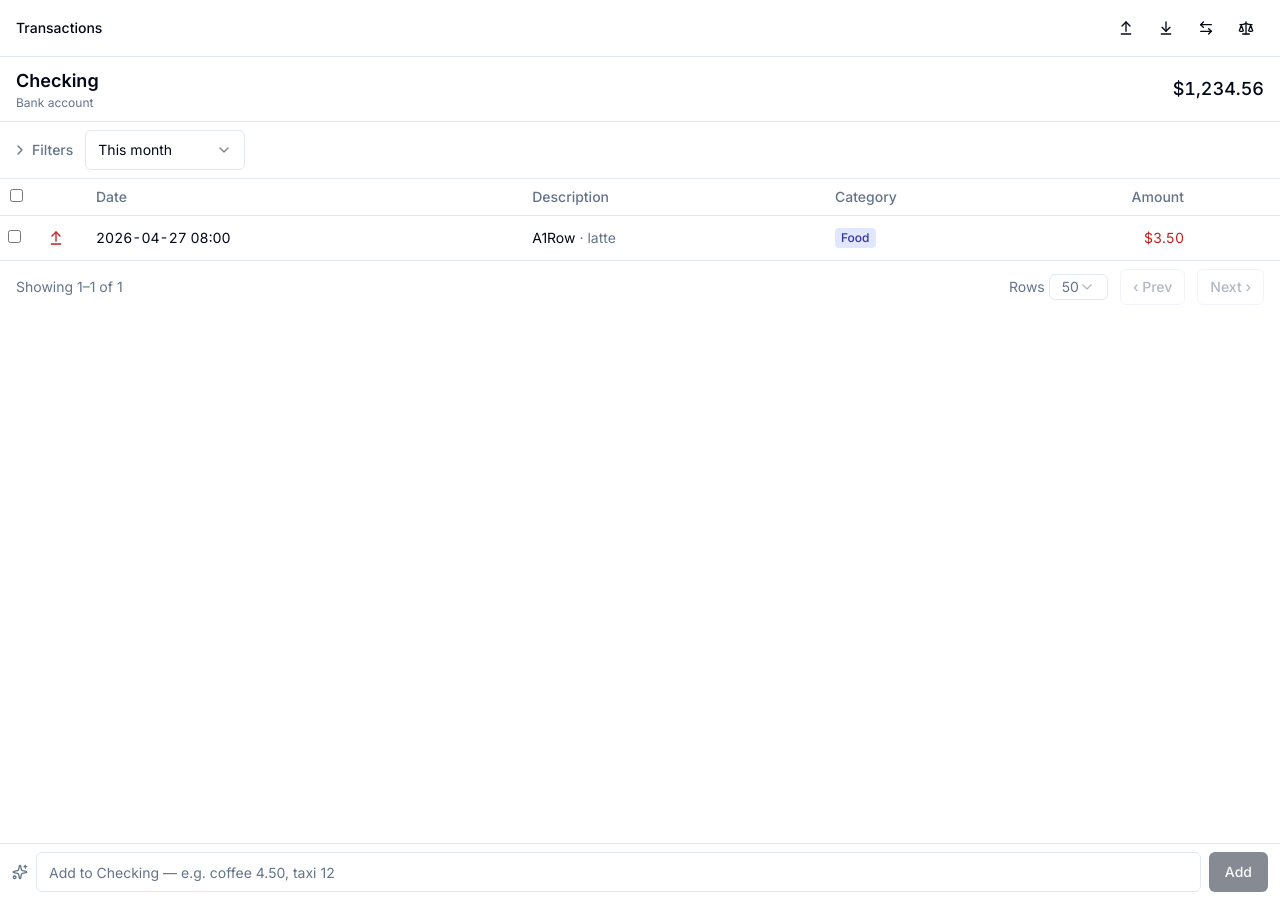
Test: TransactionsPane balance/list consistency › behaves sanely across an in-place account switch: shows the newly selected account’s own (live) balance immediately, never the previous account’s held balance
This screenshot has width=1280, height=900.
Check: the text "A1Row" is shown, box 532,229 -> 576,246
Check: the text "$1,234.56" is shown, box 1173,75 -> 1264,103
Click the button "Filters": (43, 150) 12,140 -> 73,160
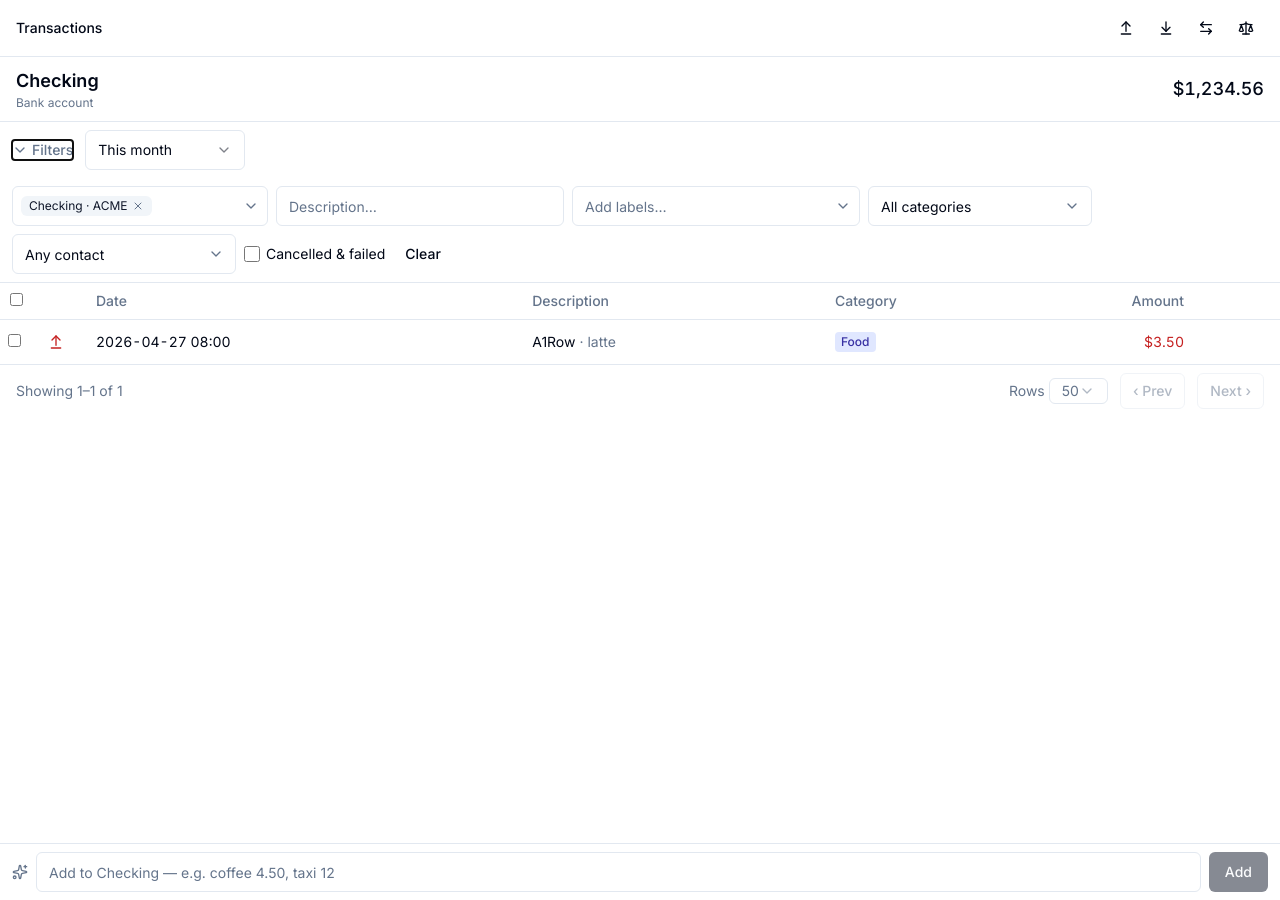
Click the button named "Remove Checking": (138, 206) 132,200 -> 144,212
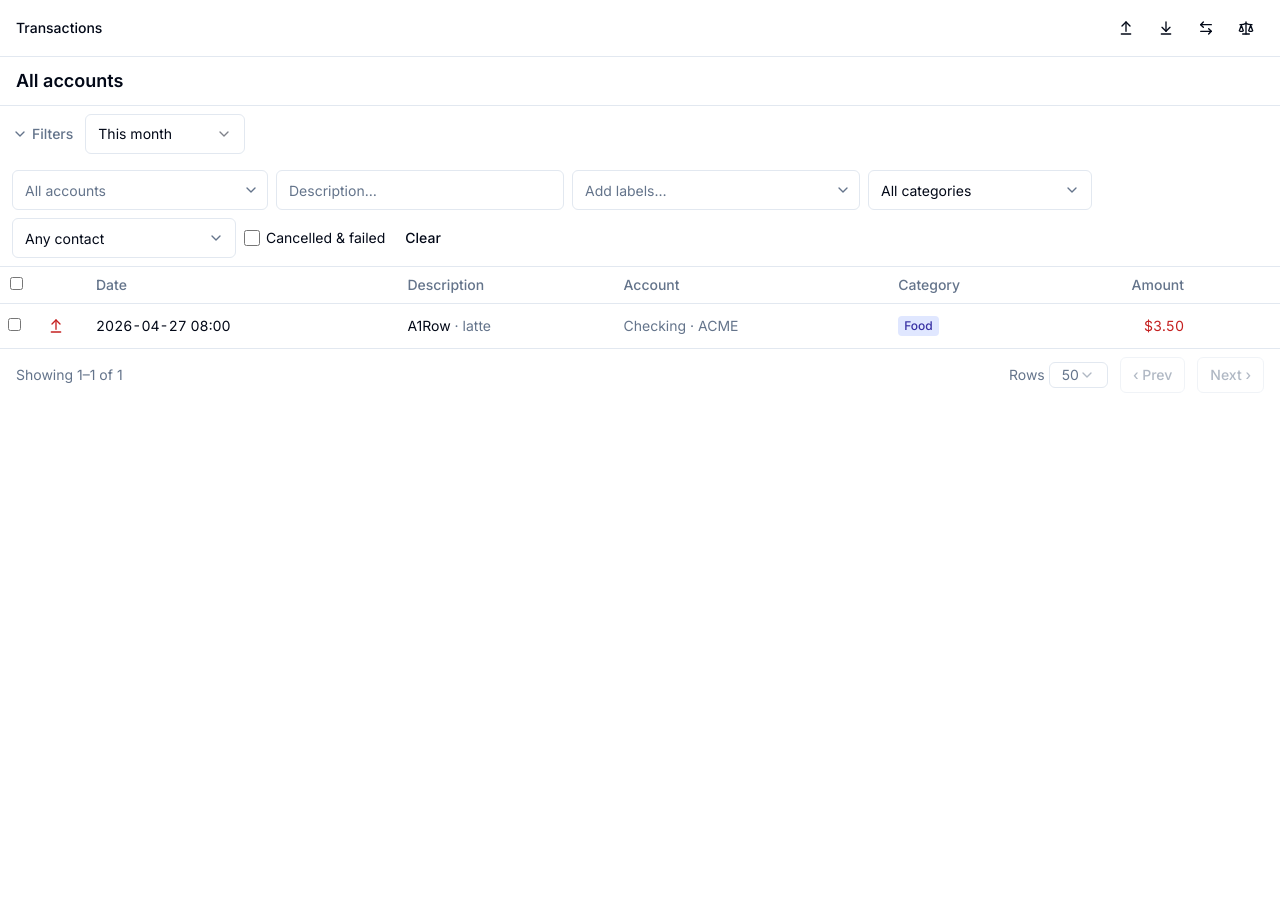
Click the dropdown with placeholder "All accounts": (130, 190) 21,176 -> 239,204
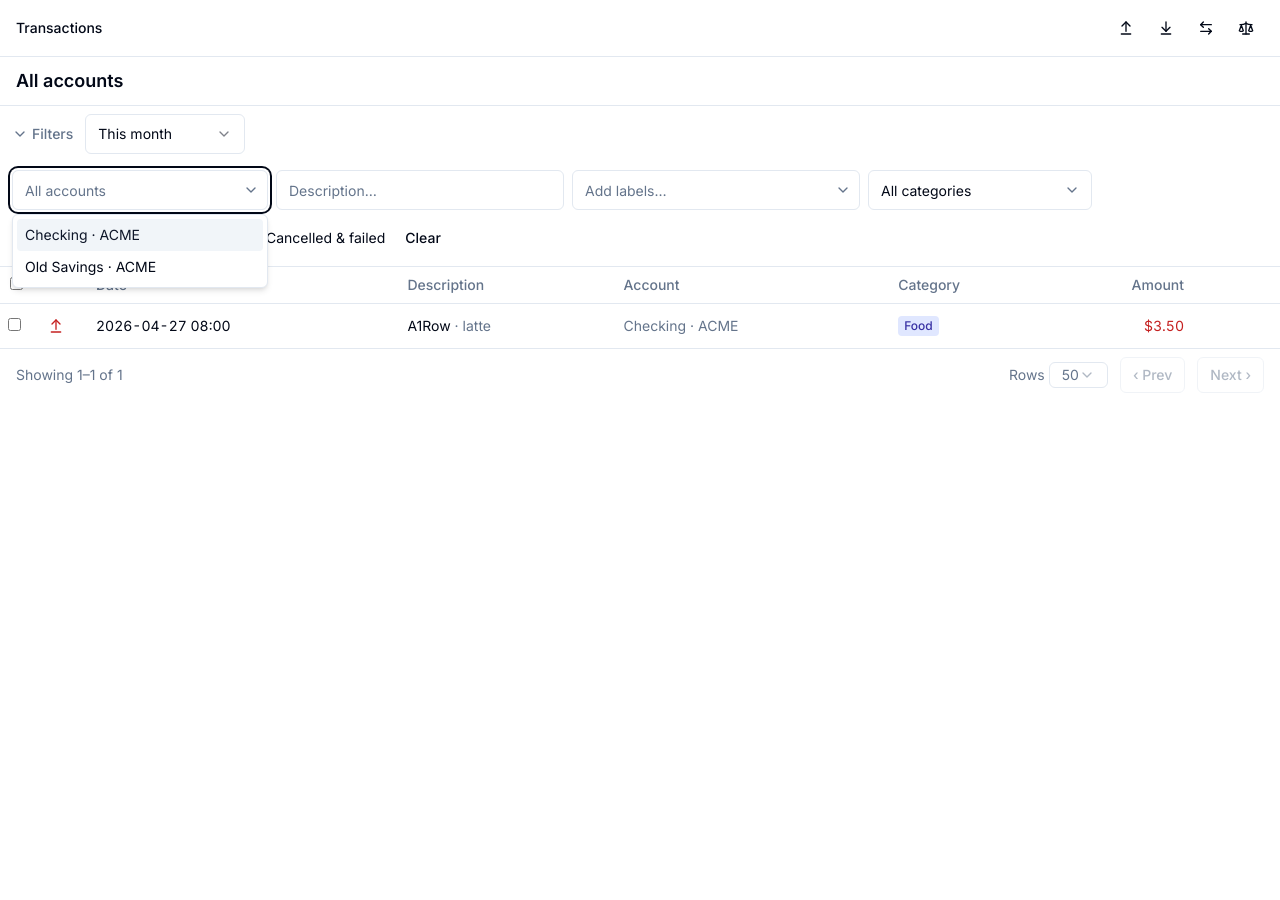
Click the option "Old Savings · ACME": (91, 266) 25,258 -> 156,275
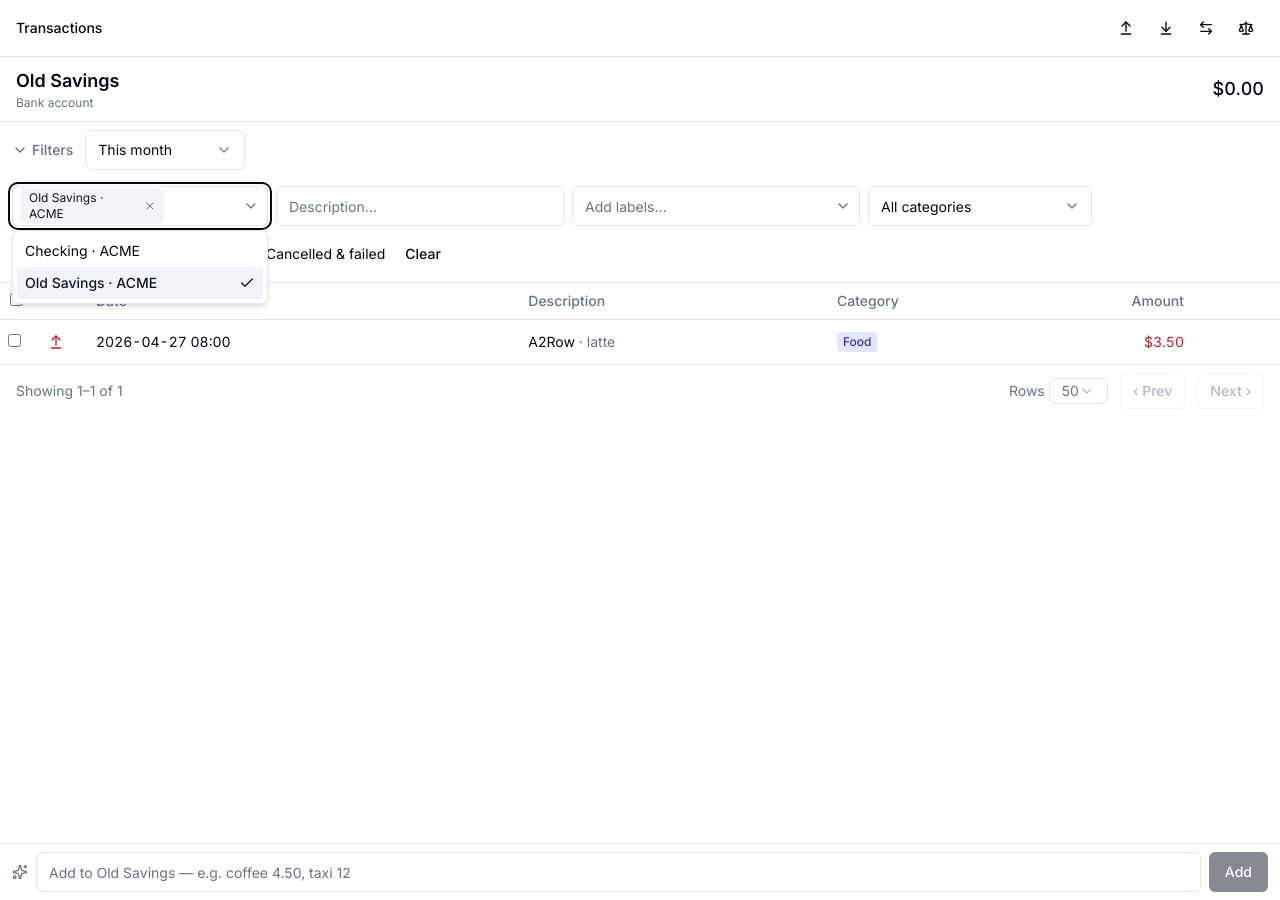
Check: the heading "Old Savings" is shown, box 16,67 -> 120,95
Check: the text "A2Row" is shown, box 528,333 -> 575,350
Check: the text "$0.00" is shown, box 1212,75 -> 1264,103
